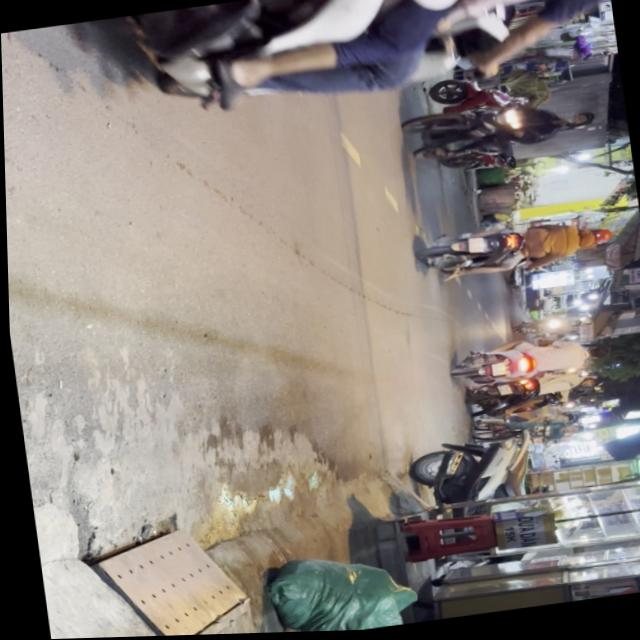helmet: (559, 110, 596, 131), (579, 227, 612, 249)
licenseplate: (68, 0, 619, 136), (398, 90, 600, 168), (413, 210, 614, 285)
nohelmet: (467, 237, 485, 254), (490, 362, 507, 377)
